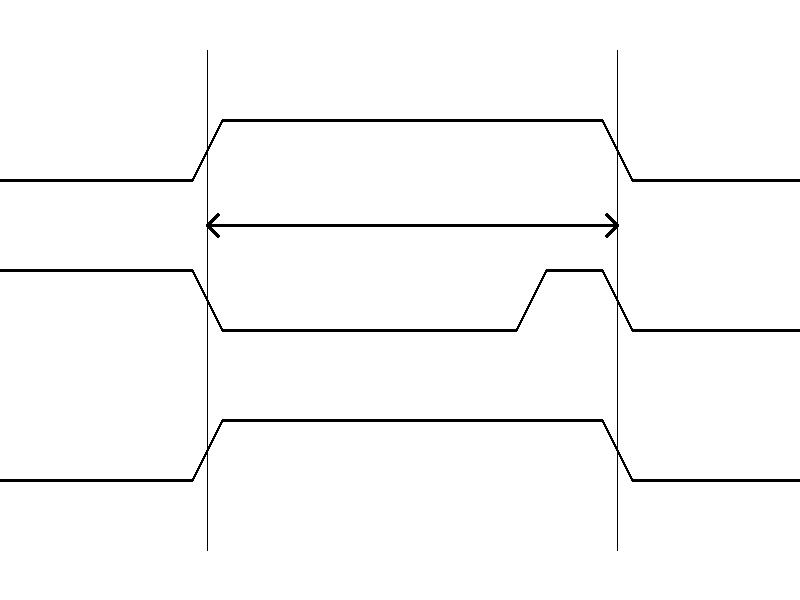double_arrow: (207, 210, 617, 240)
